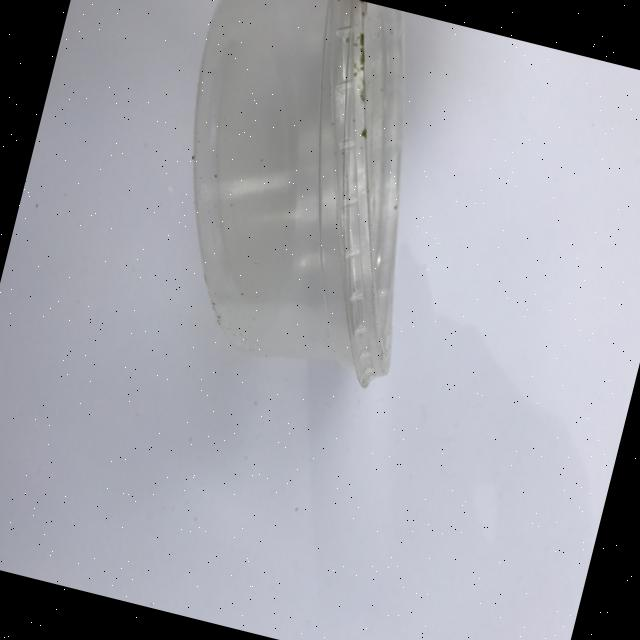plastic: (132, 0, 474, 393)
